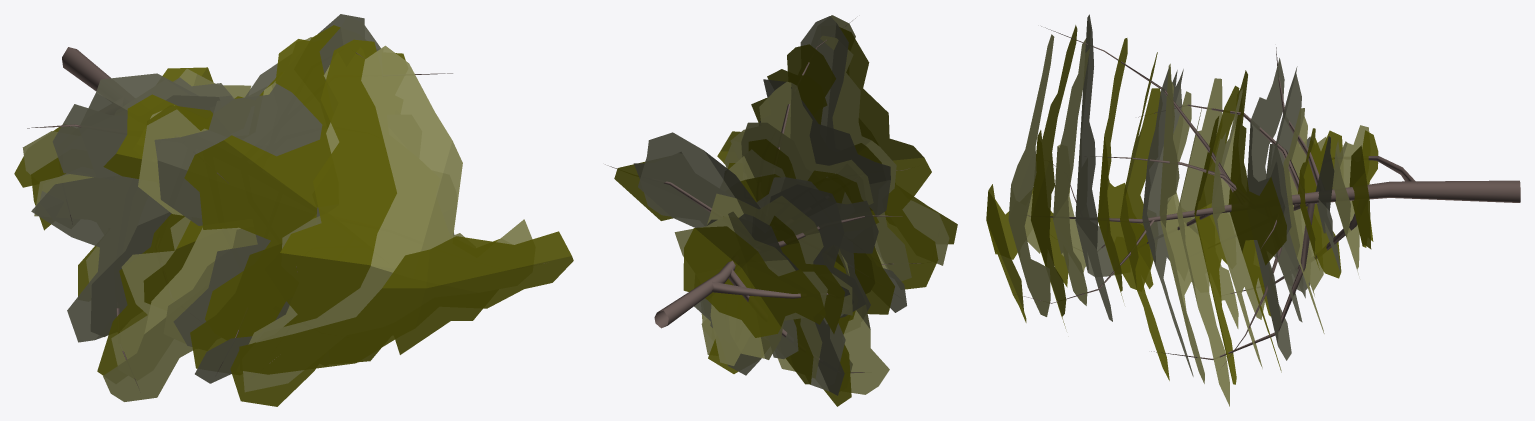
File: Tree3.obj
3 views of the same model, side by side, from view 1: azimuth 30°, elevation 25°; view 2: azimuth 150°, elevation 25°; view 3: azimuth 270°, elevation 25° (orthographic). The views are drawn at different scales.
Parts seen in each view (by area): view 1: group_1.001_ID14.003; view 2: group_1.001_ID14.003; view 3: group_1.001_ID14.003.
Boxes of the visible parts, x1,y1,x2,y2 form: group_1.001_ID14.003: (14,14,573,406); group_1.001_ID14.003: (605,15,957,406); group_1.001_ID14.003: (986,14,1520,406).
Bounding box in the file's own units: 9.64 × 9.09 × 12.28.
